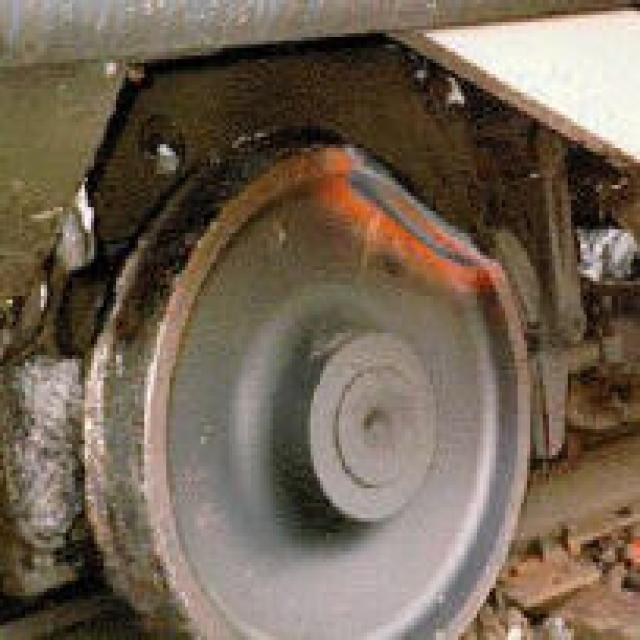Out_Of_Roundness: (307, 117, 638, 352)
